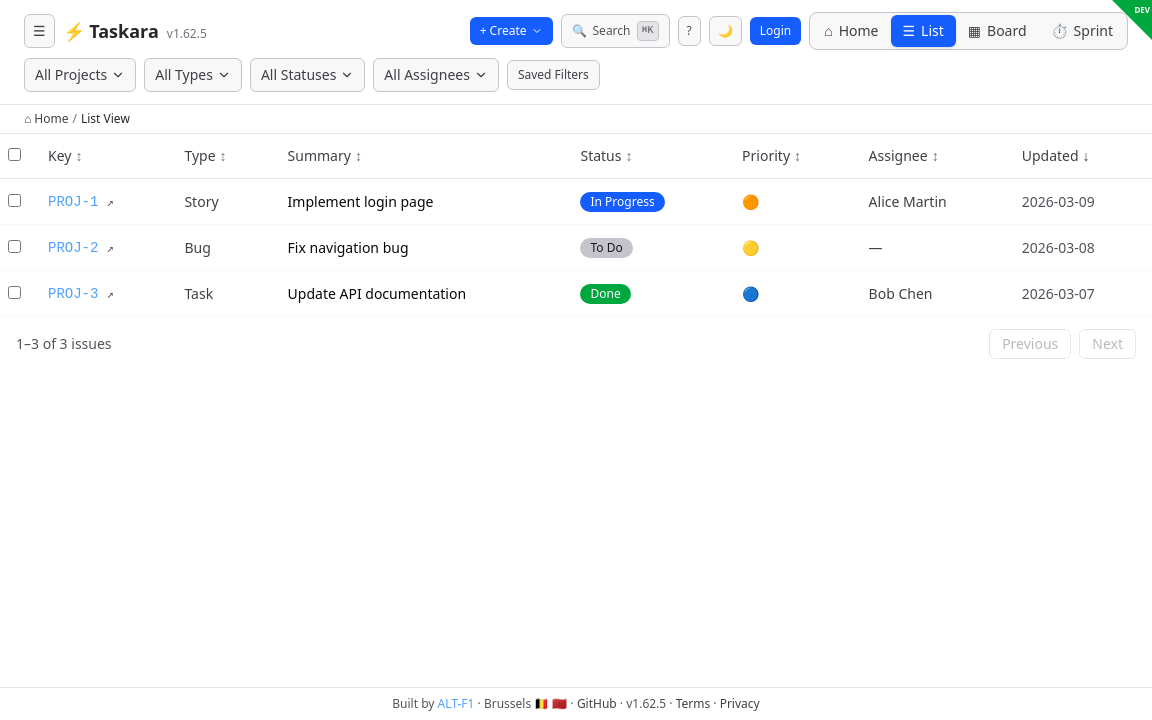
Test: Feature: Priority dropdown with fetched priorities › Scenario: Priority dropdown shows priorities fetched from API › Given the detail panel is open, when clicking edit priority, then the dropdown should list priorities from the API
This screenshot has width=1152, height=720.
Click the text "PROJ-1".
click(576, 202)  # box [0, 178, 1151, 224]
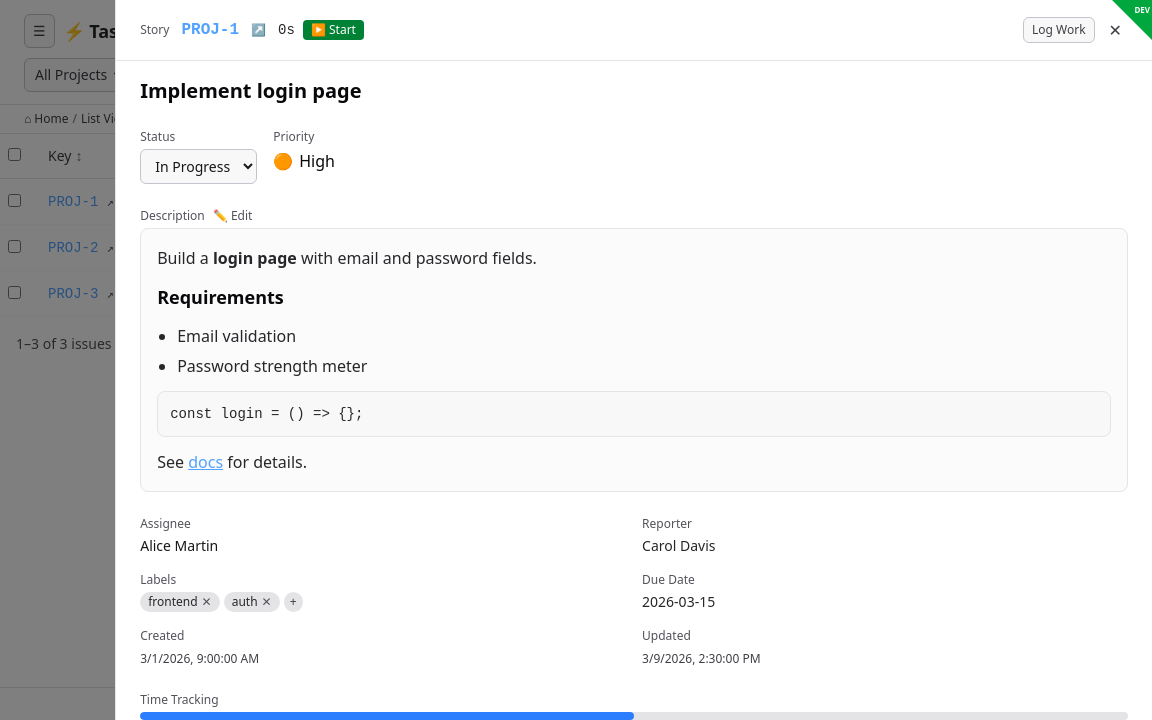
Click the button with aria-label "Edit priority".
click(317, 161)  # box [295, 149, 339, 173]
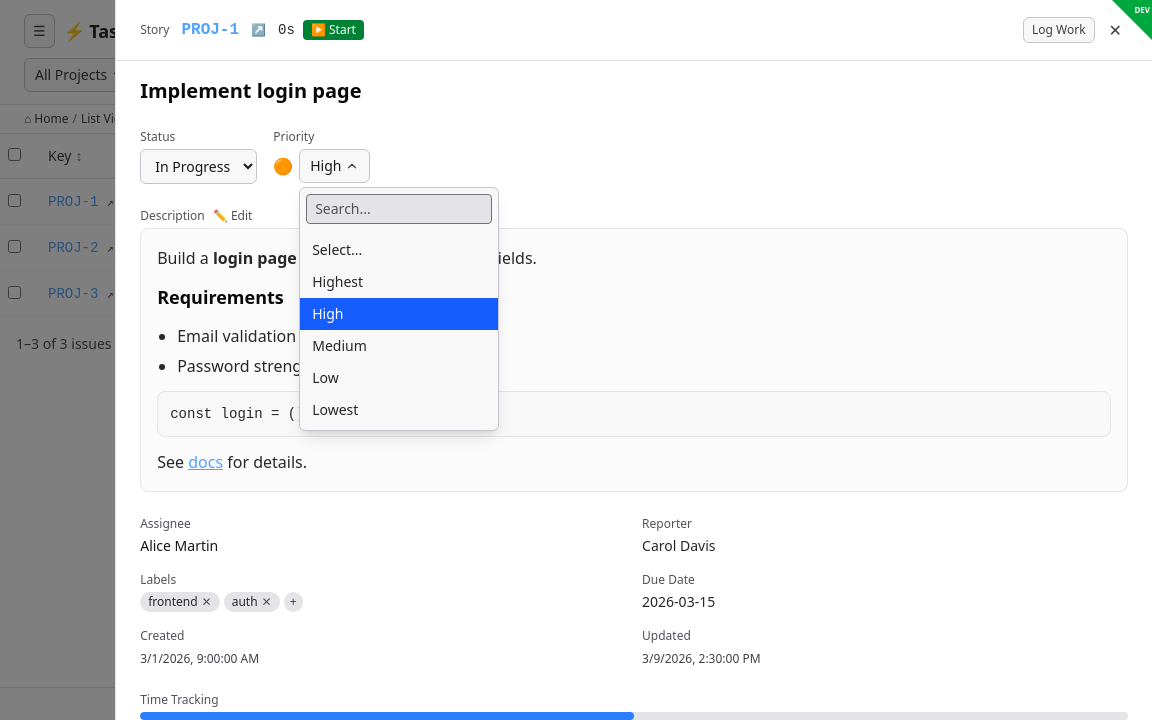
Expected: the text "High" is shown, [310, 156, 342, 176]
Expected: the option "Highest" is shown, [312, 272, 363, 291]
Expected: the option "Medium" is shown, [312, 336, 367, 355]
